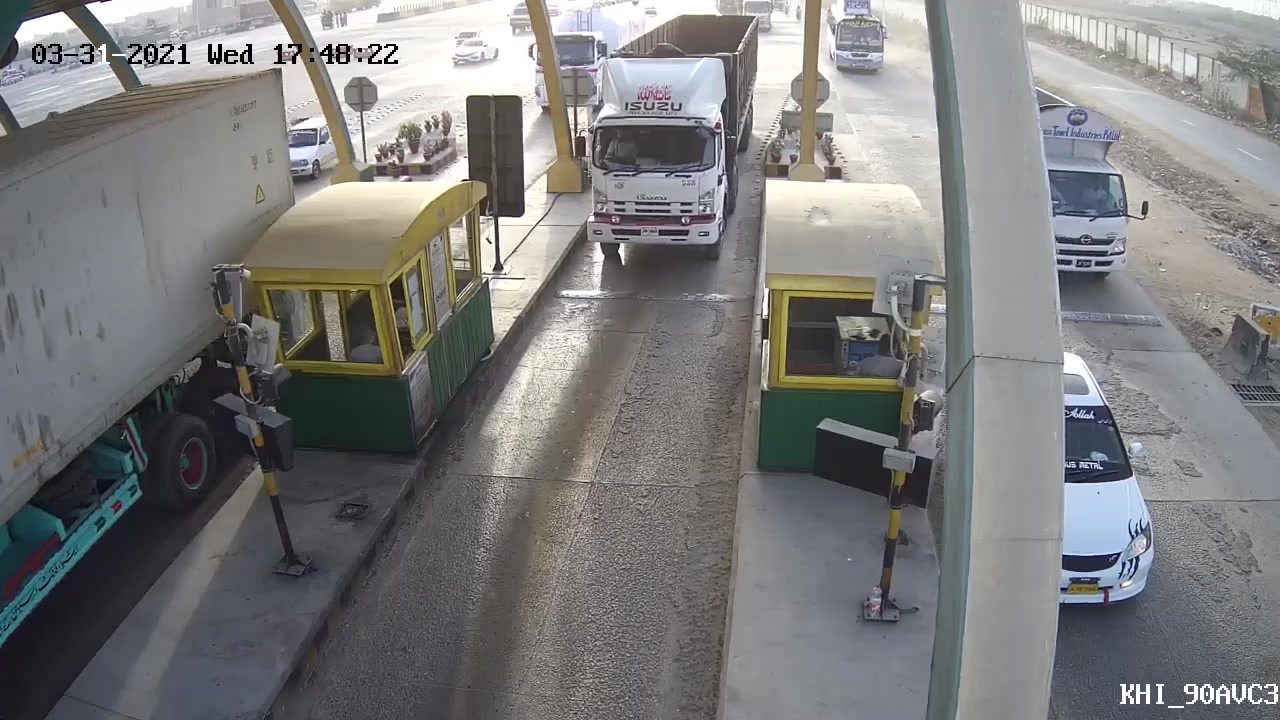F5: (576, 8, 762, 268)
